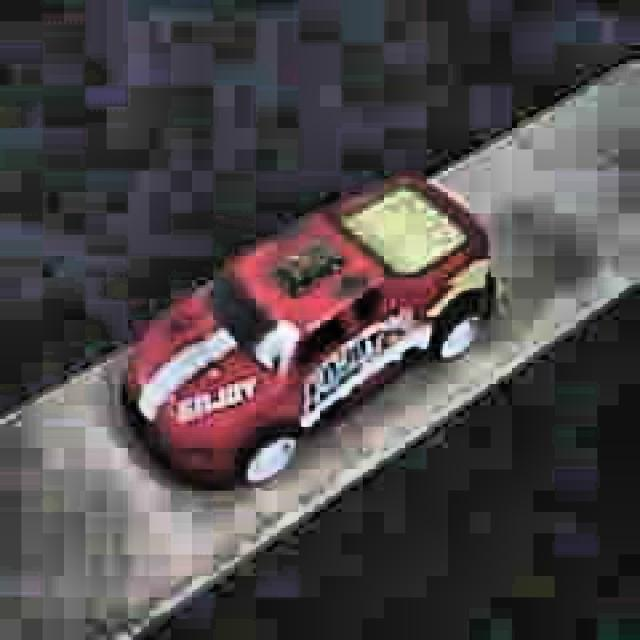car: (116, 170, 498, 494)
